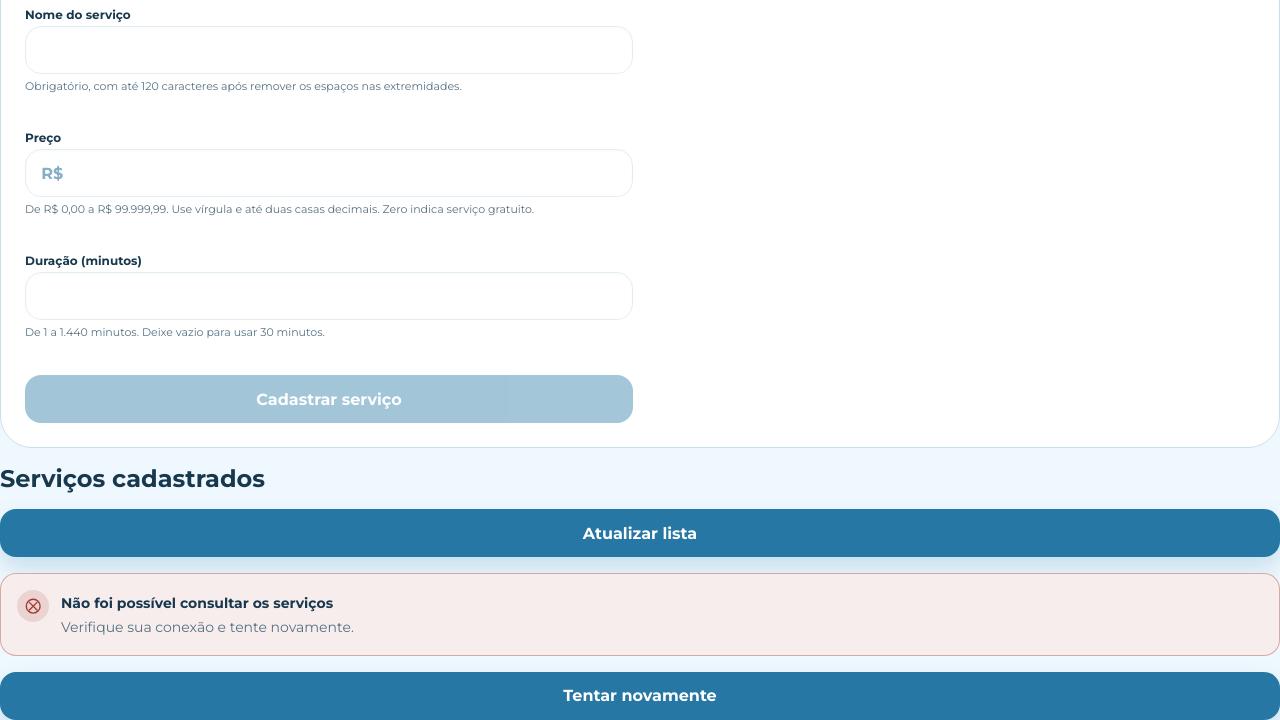
Test: libera cadastro quando a consulta volta a responder com catálogo vazio e escrita ativa
(page scrolled)
Check: the text "Não foi possível consultar os serviços" is shown, box top-left (61, 594), bottom-right (333, 612)
Check: the field labelled "Nome do serviço" is disabled, box top-left (25, 26), bottom-right (633, 74)
Click the button "Tentar novamente" at (640, 696), box top-left (0, 672), bottom-right (1279, 719)
(page scrolled)
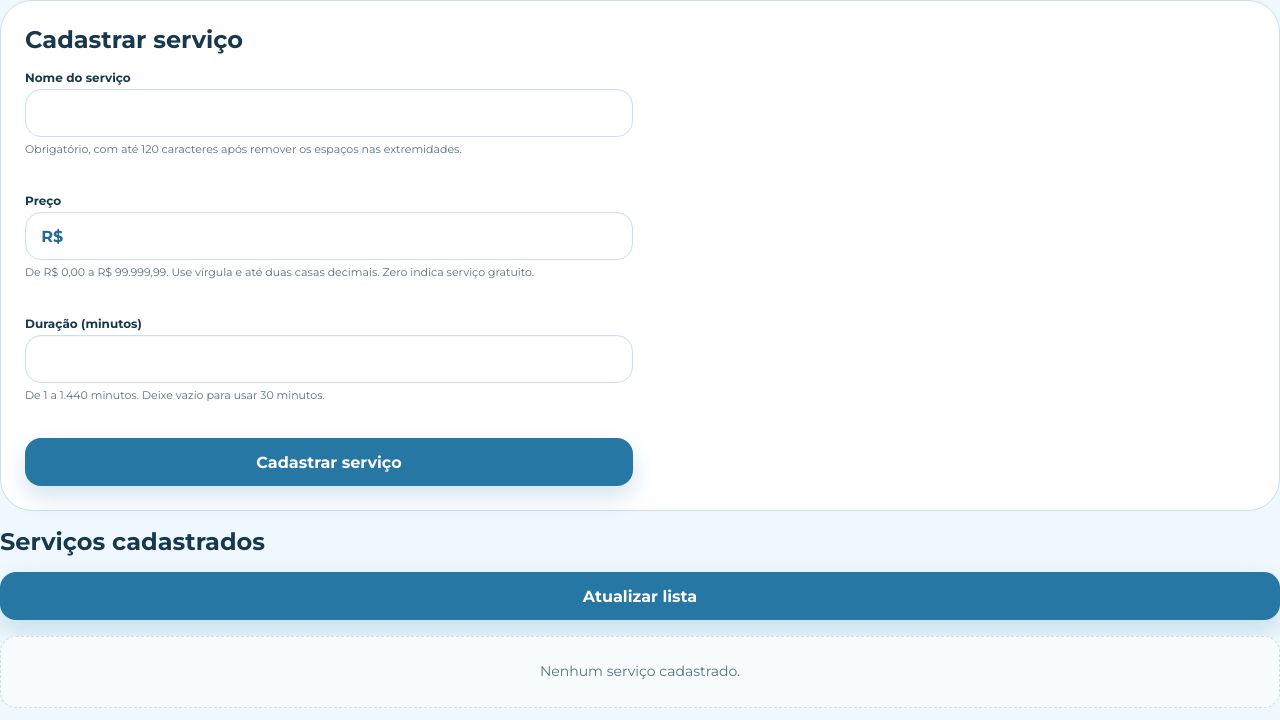
Check: the text "Nenhum serviço cadastrado." is shown, box top-left (0, 636), bottom-right (1279, 708)
Check: the field labelled "Nome do serviço" is enabled, box top-left (25, 90), bottom-right (633, 138)
Check: the field labelled "Duração (minutos)" is enabled, box top-left (25, 335), bottom-right (633, 383)
